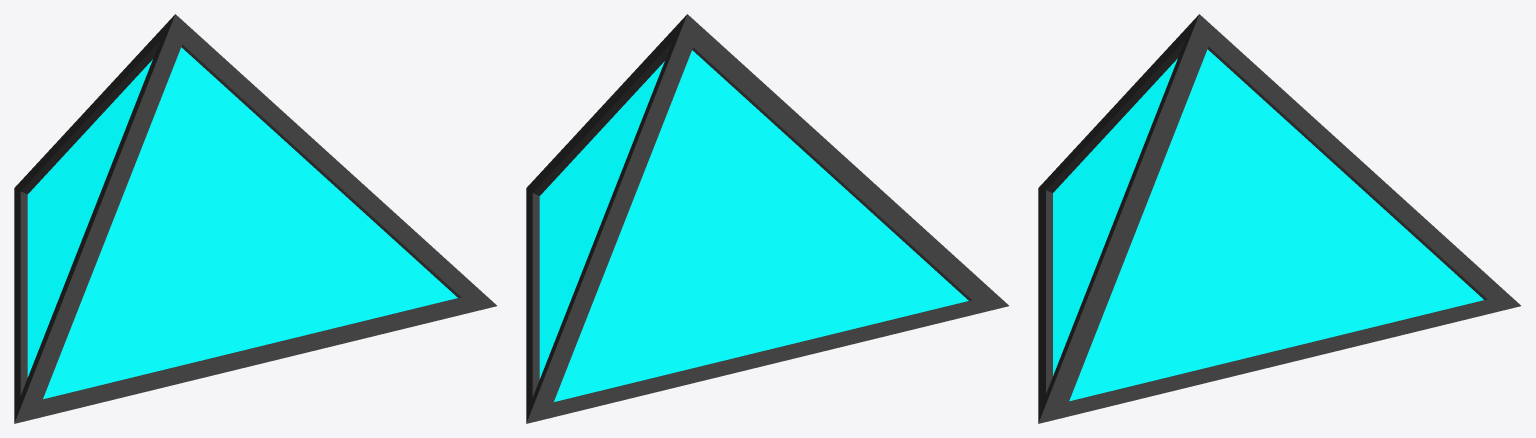
Rendered from SFI0310018.fbx.
3 renders of one model, left to right at view 1: azimuth 30°, elevation 25°; view 2: azimuth 150°, elevation 25°; view 3: azimuth 270°, elevation 25°, orthographic.
Parts seen in each view (by area): view 1: smSFI0310018; view 2: smSFI0310018; view 3: smSFI0310018.
Boxes of the visible parts, x1,y1,x2,y2 form: smSFI0310018: (14, 14, 496, 423); smSFI0310018: (526, 14, 1008, 423); smSFI0310018: (1038, 14, 1520, 423).
Bounding box in the file's own units: 173 × 100 × 150.
